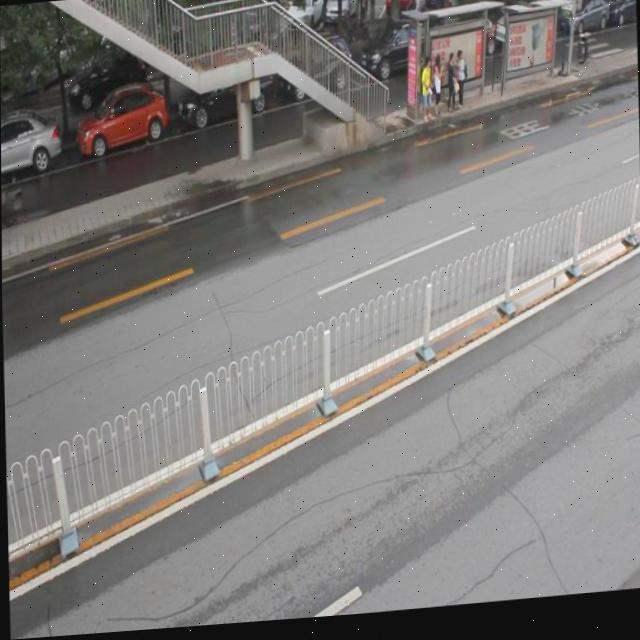car: (177, 49, 274, 132), (75, 89, 168, 161), (359, 22, 436, 88), (280, 41, 352, 108), (1, 113, 62, 184)
